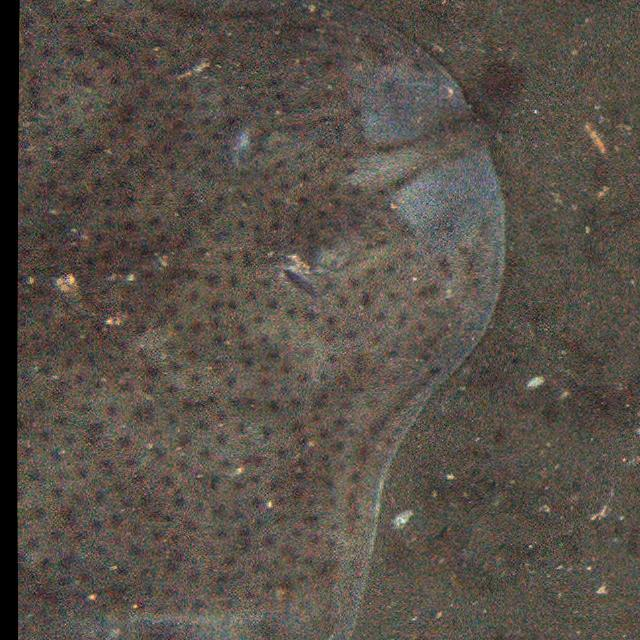skate: (21, 0, 510, 639)
